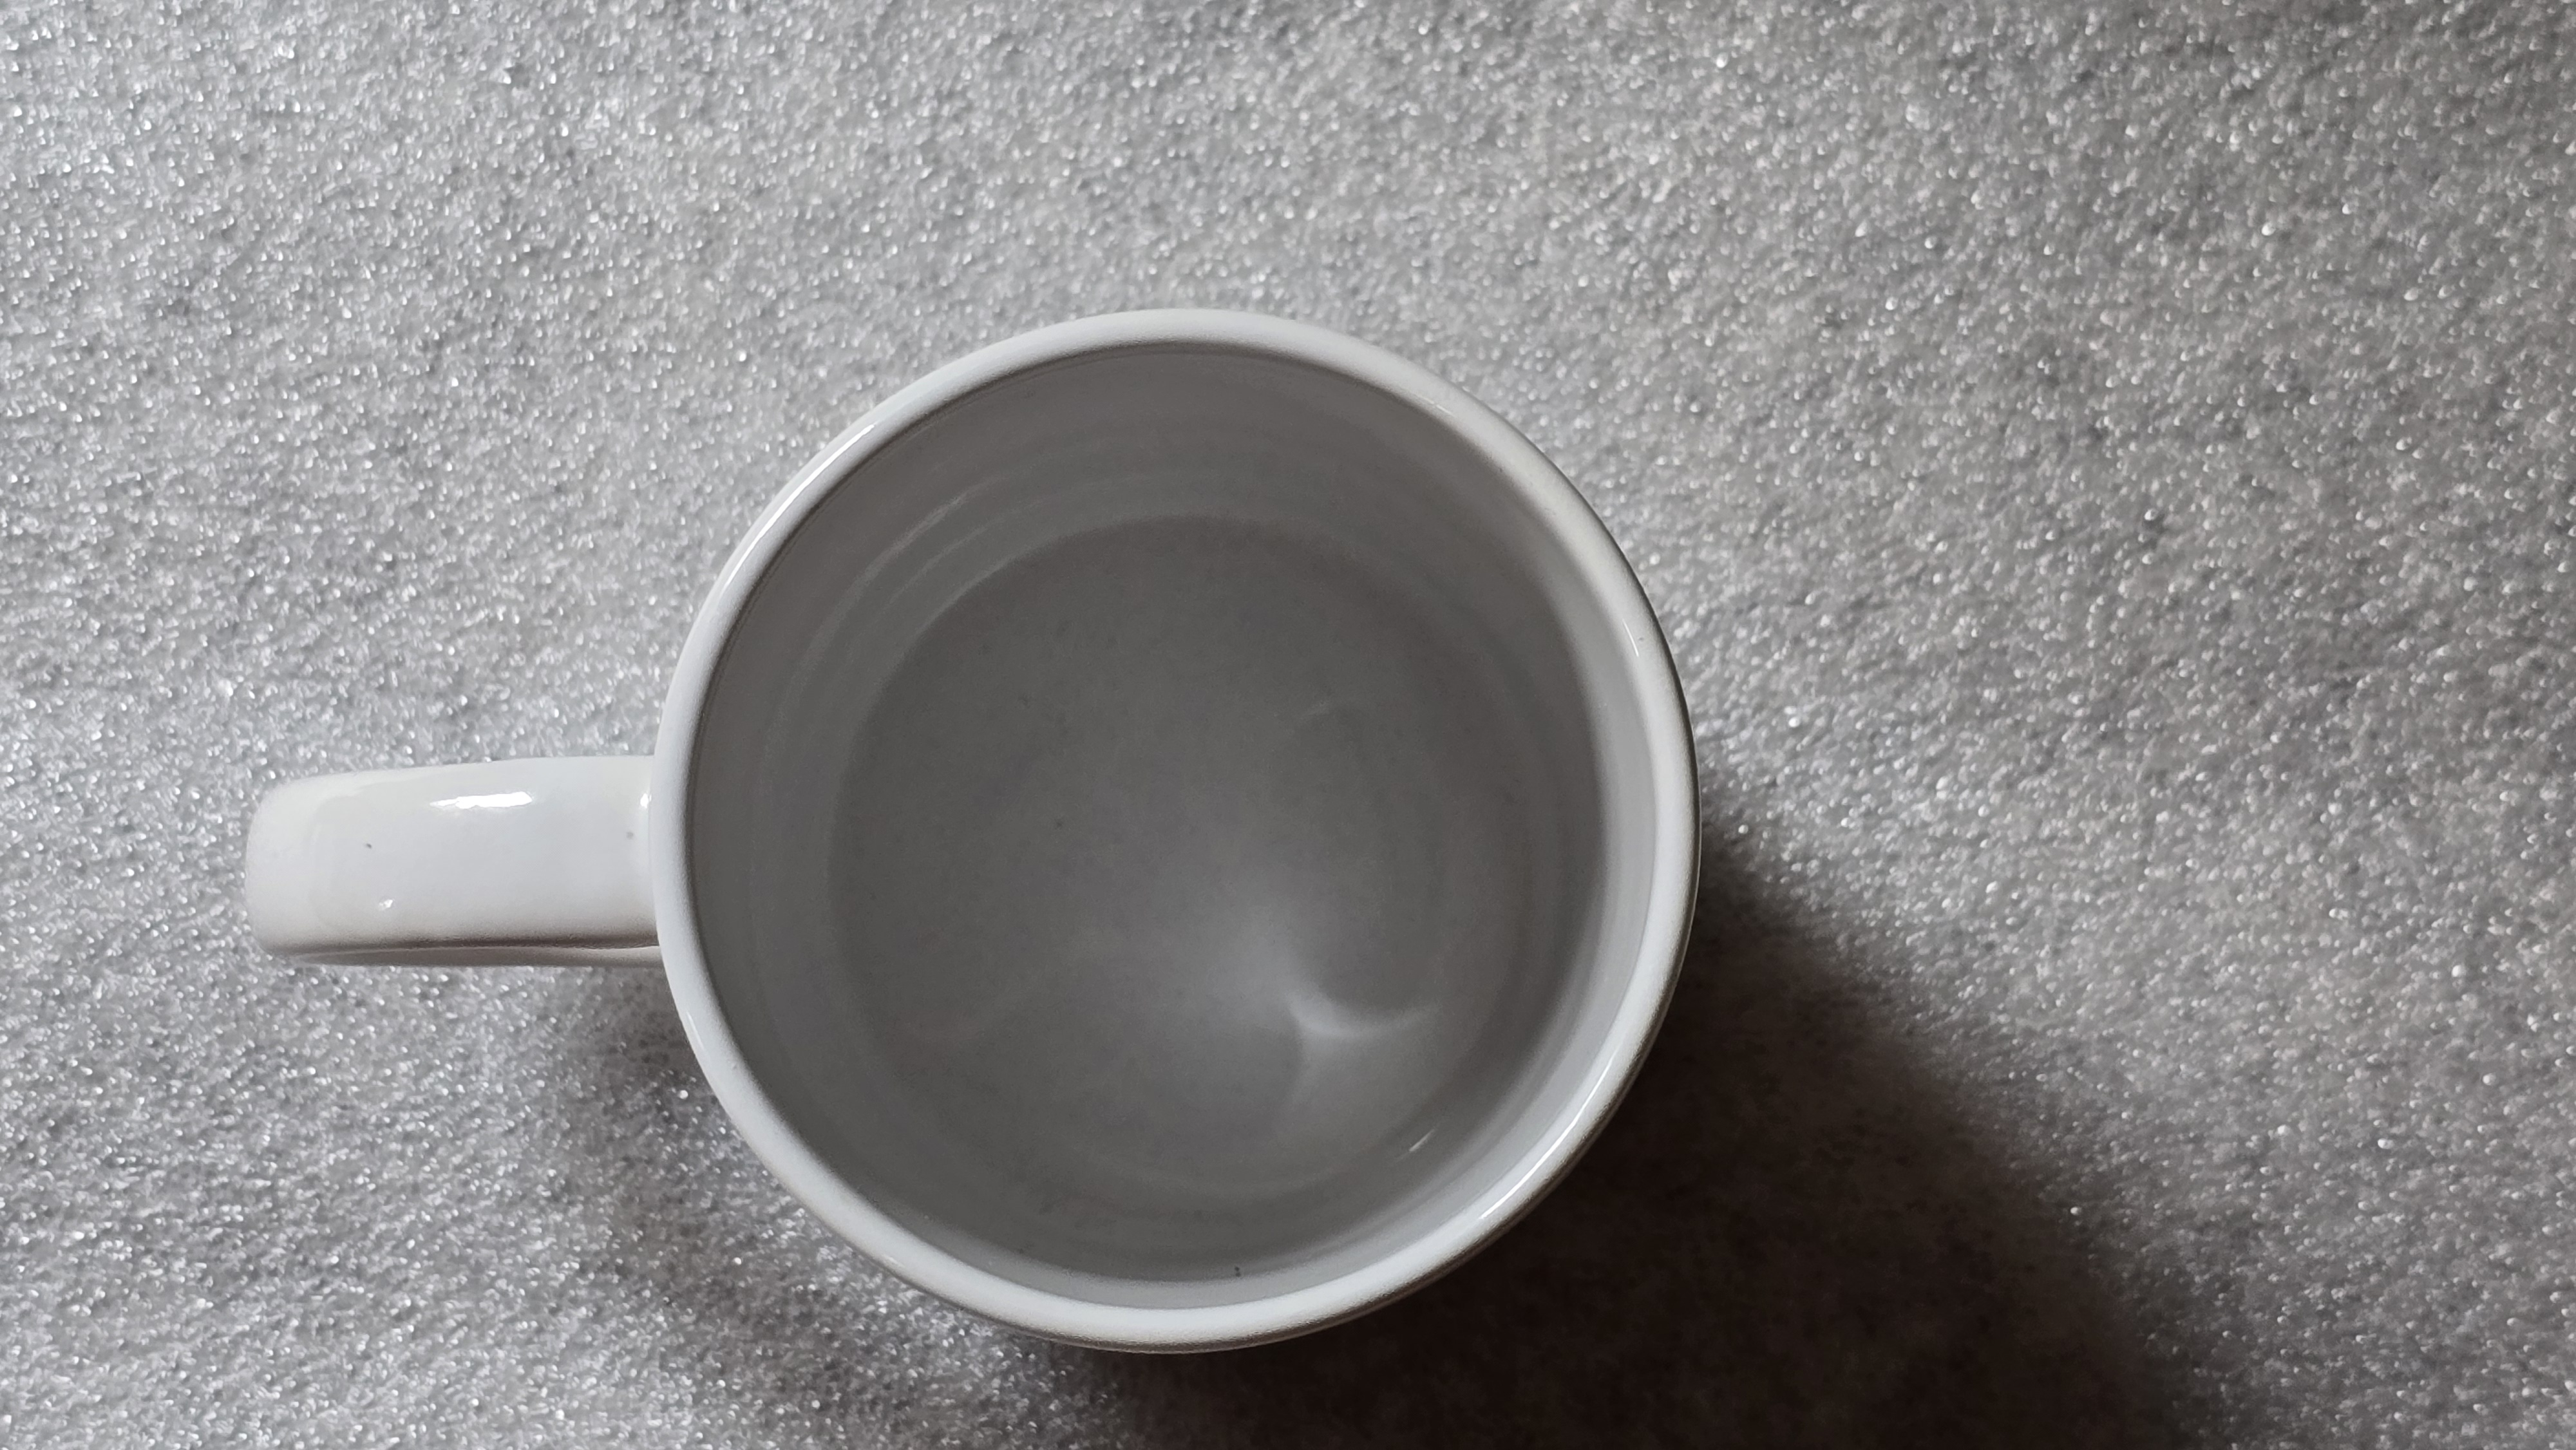mug: (246, 281, 1776, 1356)
